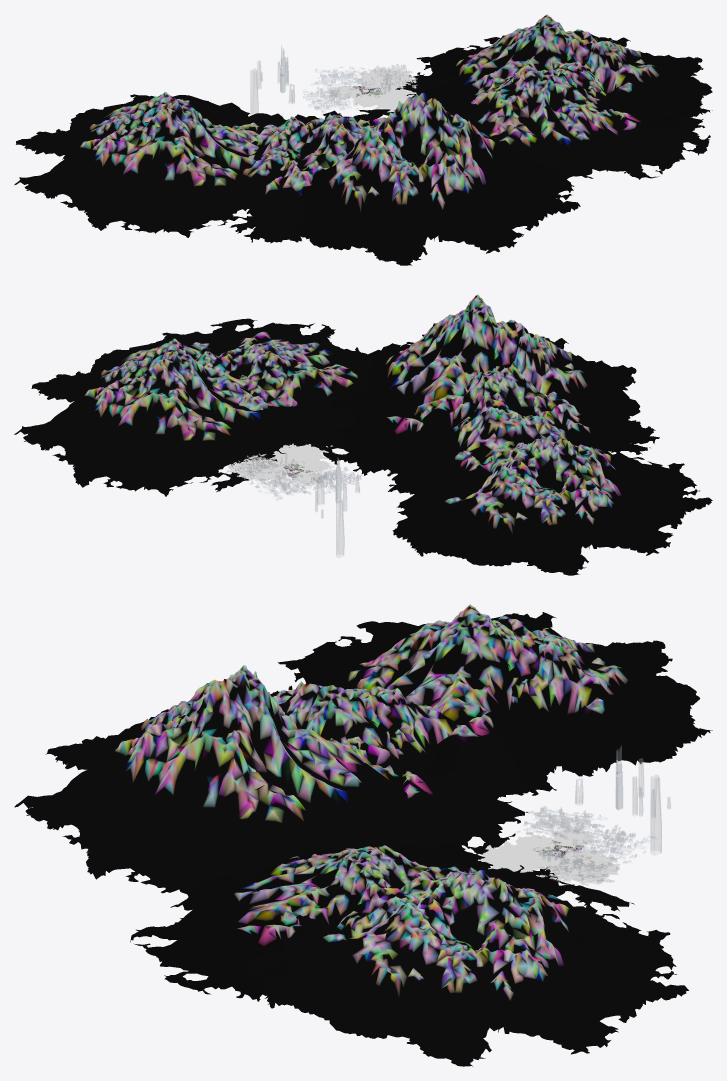
File: ThrowbackStadium_WhiteModel.glb
The picture shows the model from 3 angles, top to bottom: view 1: azimuth 30°, elevation 25°; view 2: azimuth 150°, elevation 25°; view 3: azimuth 270°, elevation 25°; orthographic projection. The views are drawn at different scales.
Parts seen in each view (by area): view 1: Mountain_B_87_0, Mountain_B_177_0, Mountain_B_167_0, Mountain_B_89_0, Mountain_B_103_0, OOBBuildings_Combined_05_154_1, OOBBuildings_Combined_03_113_0, Hills_A_97_0, City_OOB_A_109_1, Hills_A_145_0; view 2: Mountain_B_177_0, Mountain_B_89_0, Mountain_B_87_0, Mountain_B_103_0, Mountain_B_167_0, OOBBuildings_Combined_05_154_1, OOBBuildings_Combined_03_113_0, Hills_A_97_0, Hills_A_145_0, City_OOB_A_109_1; view 3: Mountain_B_89_0, Mountain_B_87_0, Mountain_B_177_0, Mountain_B_167_0, Mountain_B_103_0, OOBBuildings_Combined_05_154_1, OOBBuildings_Combined_03_113_0, Hills_A_145_0, Hills_A_97_0, City_OOB_A_109_1, City_OOB_A_109_0.
Part boxes in pixels (left/top/right/bottom): Mountain_B_87_0: left=295, top=92, right=580, bottom=265; Mountain_B_177_0: left=14, top=91, right=288, bottom=237; Mountain_B_167_0: left=405, top=61, right=710, bottom=186; Mountain_B_89_0: left=395, top=14, right=712, bottom=127; Mountain_B_103_0: left=235, top=109, right=394, bottom=243; OOBBuildings_Combined_05_154_1: left=303, top=67, right=363, bottom=112; OOBBuildings_Combined_03_113_0: left=250, top=45, right=294, bottom=115; Hills_A_97_0: left=353, top=66, right=411, bottom=90; City_OOB_A_109_1: left=361, top=64, right=417, bottom=89; Hills_A_145_0: left=372, top=88, right=416, bottom=112; Mountain_B_177_0: left=387, top=435, right=712, bottom=575; Mountain_B_89_0: left=14, top=332, right=316, bottom=496; Mountain_B_87_0: left=330, top=294, right=640, bottom=452; Mountain_B_103_0: left=319, top=366, right=659, bottom=483; Mountain_B_167_0: left=134, top=318, right=372, bottom=462; OOBBuildings_Combined_05_154_1: left=255, top=464, right=362, bottom=499; OOBBuildings_Combined_03_113_0: left=315, top=457, right=359, bottom=557; Hills_A_97_0: left=234, top=458, right=289, bottom=483; Hills_A_145_0: left=272, top=443, right=328, bottom=464; City_OOB_A_109_1: left=227, top=454, right=290, bottom=483; Mountain_B_89_0: left=245, top=862, right=688, bottom=1066; Mountain_B_87_0: left=14, top=665, right=467, bottom=889; Mountain_B_177_0: left=272, top=604, right=712, bottom=803; Mountain_B_167_0: left=130, top=842, right=597, bottom=1001; Mountain_B_103_0: left=270, top=681, right=529, bottom=854; OOBBuildings_Combined_05_154_1: left=517, top=806, right=655, bottom=861; OOBBuildings_Combined_03_113_0: left=575, top=745, right=670, bottom=854; Hills_A_145_0: left=478, top=841, right=554, bottom=872; Hills_A_97_0: left=545, top=850, right=620, bottom=882; City_OOB_A_109_1: left=536, top=849, right=627, bottom=885; City_OOB_A_109_0: left=539, top=851, right=623, bottom=884.
Size of the model in its own units: 48222 by 9774 by 32570.
